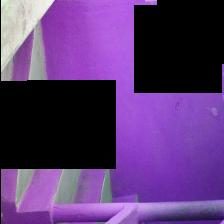purple: (40, 1, 224, 202), (0, 36, 76, 224), (0, 30, 32, 212), (51, 201, 224, 224), (72, 162, 111, 203), (110, 194, 137, 203)
